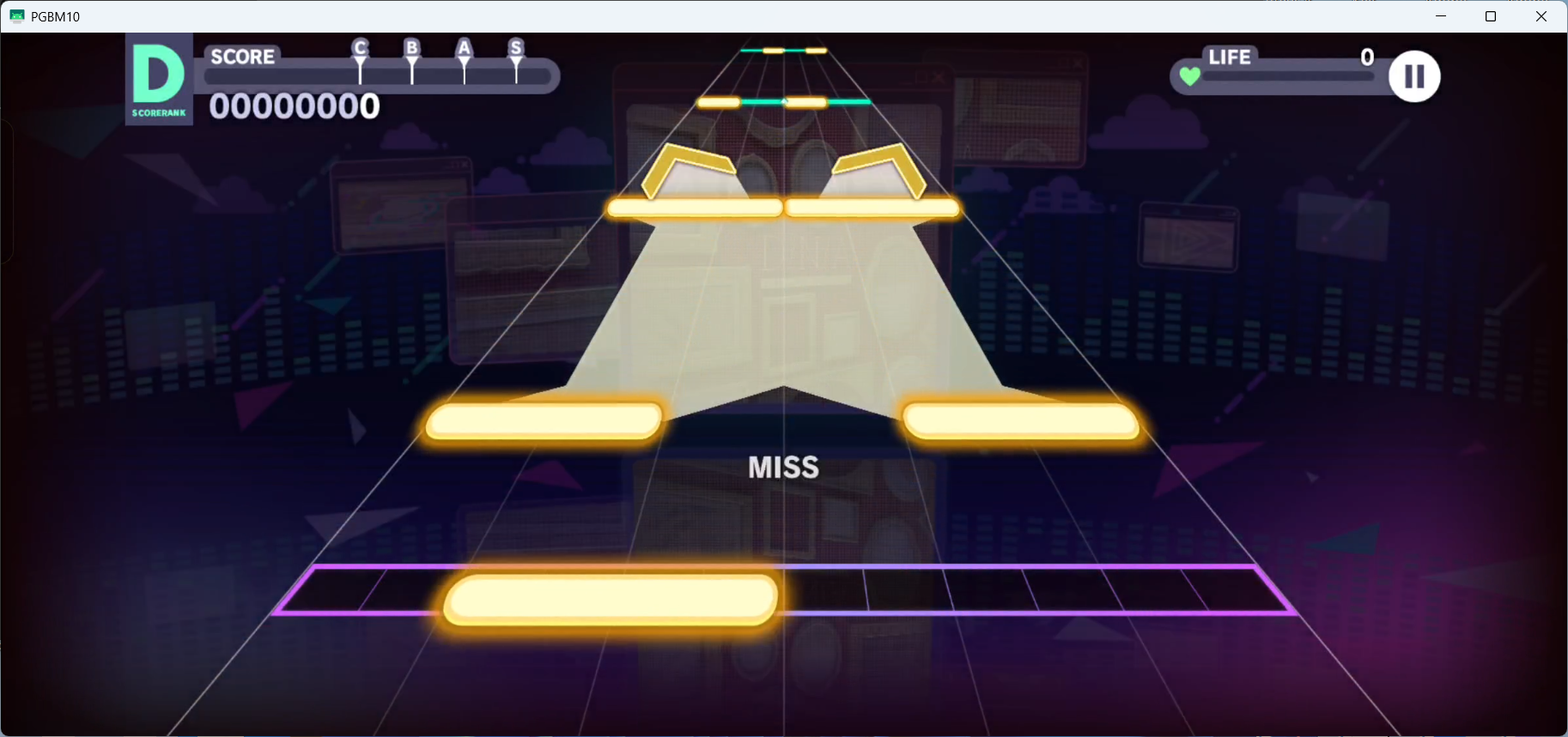flick: (817, 142, 926, 200), (641, 142, 747, 200)
hold: (510, 217, 1065, 401)
sweep: (698, 97, 872, 105), (739, 48, 829, 51)
tap: (441, 574, 781, 626), (426, 401, 664, 441), (903, 403, 1141, 442), (608, 199, 782, 218), (783, 199, 958, 217), (697, 97, 739, 108), (786, 97, 826, 108), (762, 47, 783, 53), (806, 47, 826, 52)
